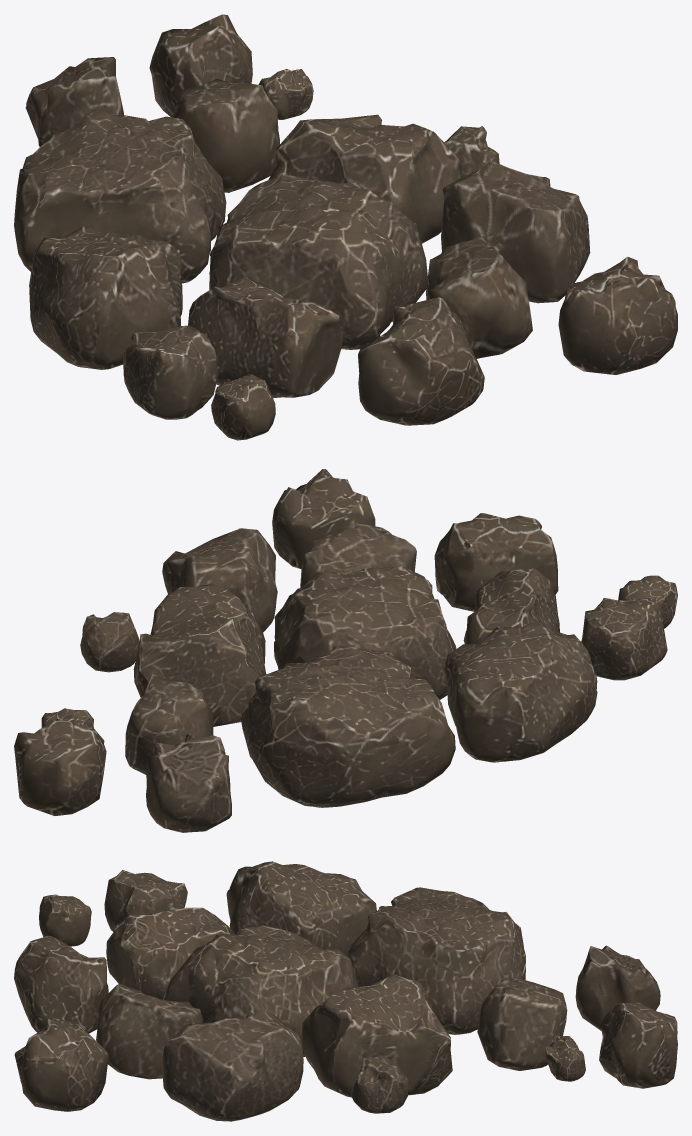
The model's file is Debris_rocks_01.fbx.
The picture shows the model from 3 angles, top to bottom: view 1: azimuth 30°, elevation 25°; view 2: azimuth 150°, elevation 25°; view 3: azimuth 270°, elevation 25°; orthographic projection. The views are drawn at different scales.
Parts seen in each view (by area): view 1: debris_rock; view 2: debris_rock; view 3: debris_rock.
Boxes of the visible parts, bbox=[...] form: debris_rock: bbox=[14, 14, 677, 440]; debris_rock: bbox=[14, 469, 677, 832]; debris_rock: bbox=[14, 861, 677, 1121].
Size of the model in its own units: 66.73 by 15.46 by 93.27.
Materials: 1 (1 with a texture image).
